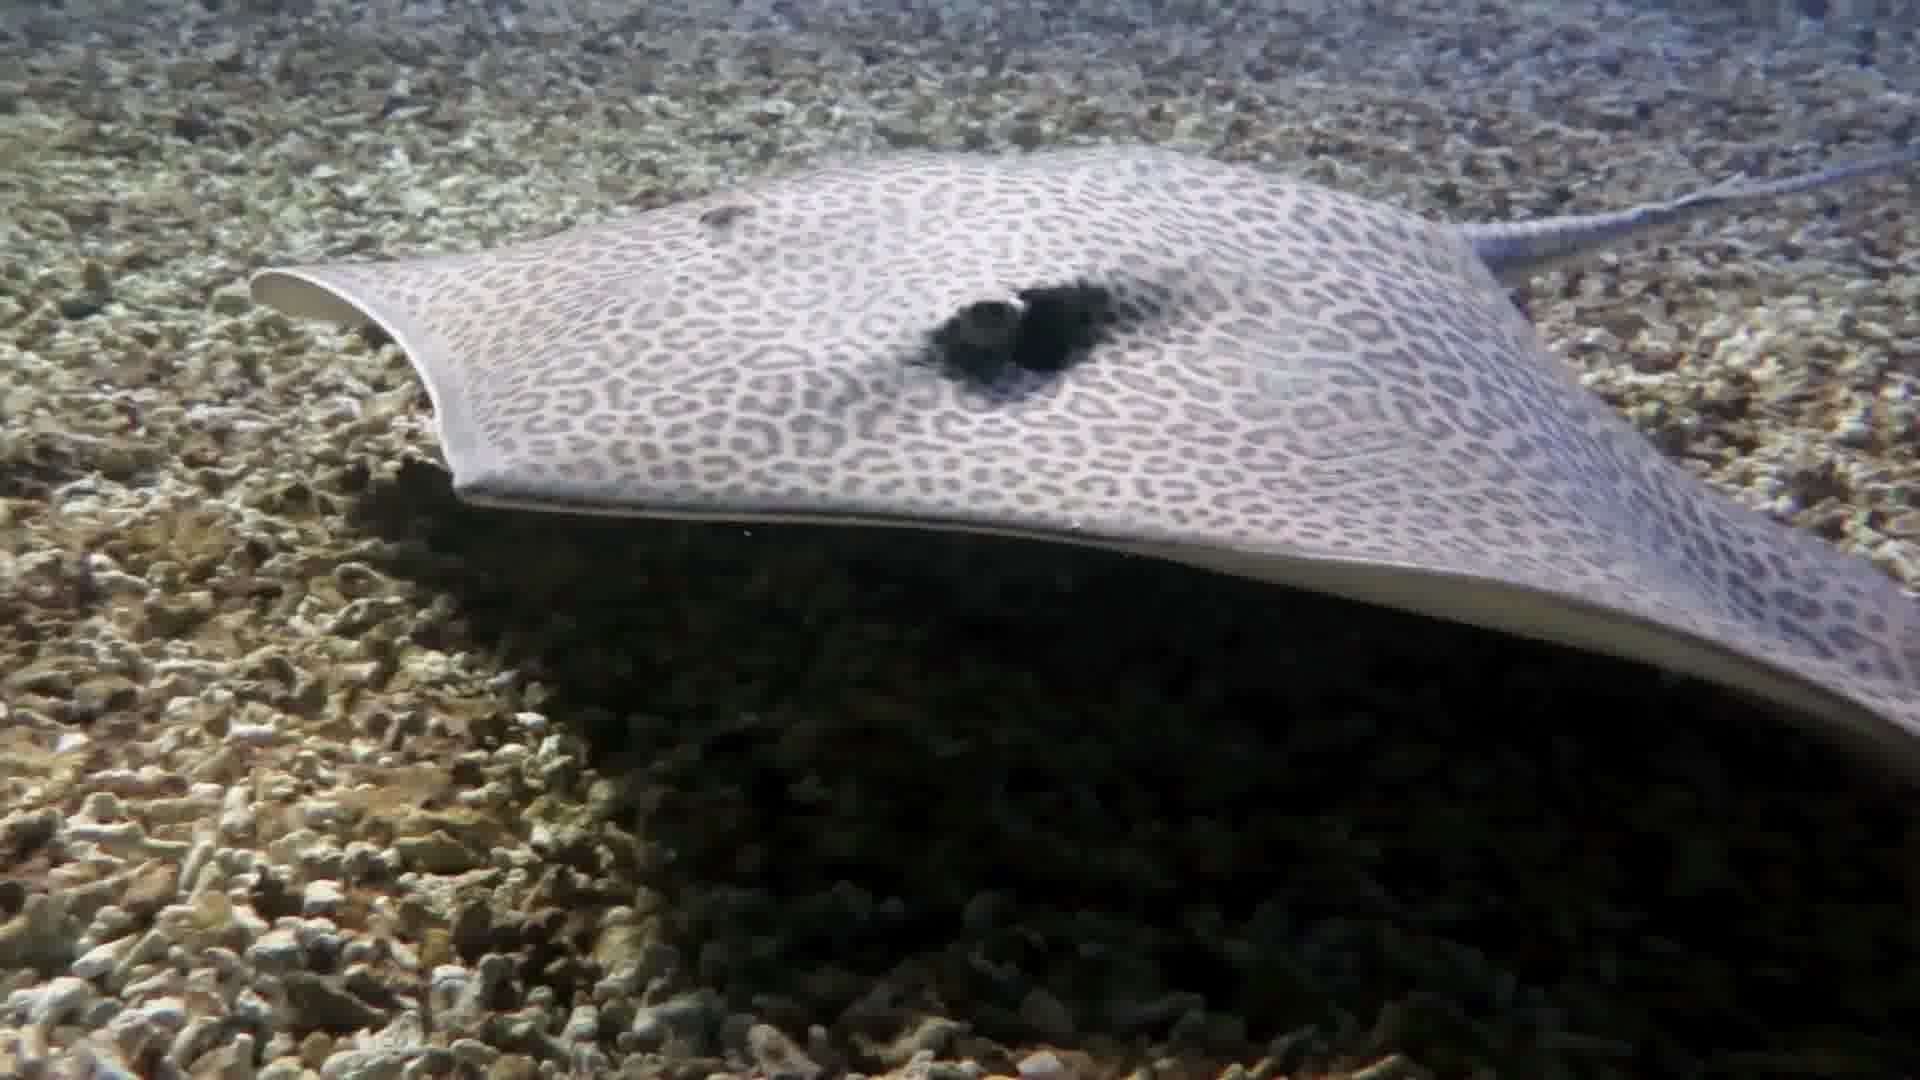Himantura uarnak: (225, 44, 1920, 756)
